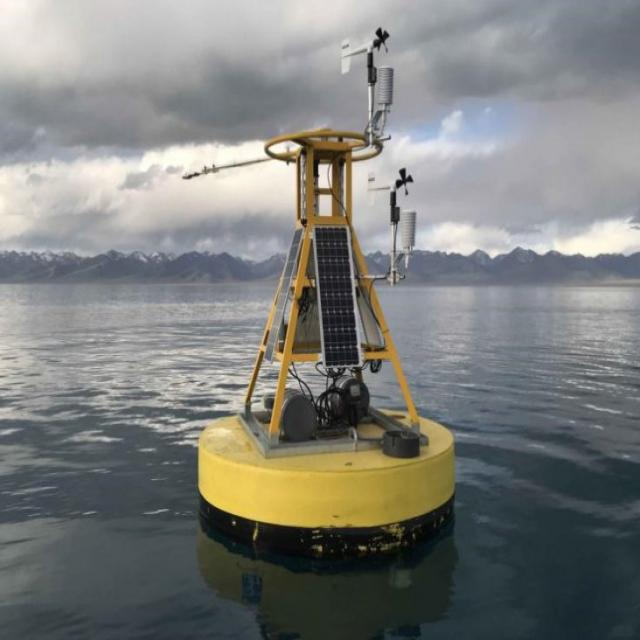buoy: (177, 21, 470, 550)
